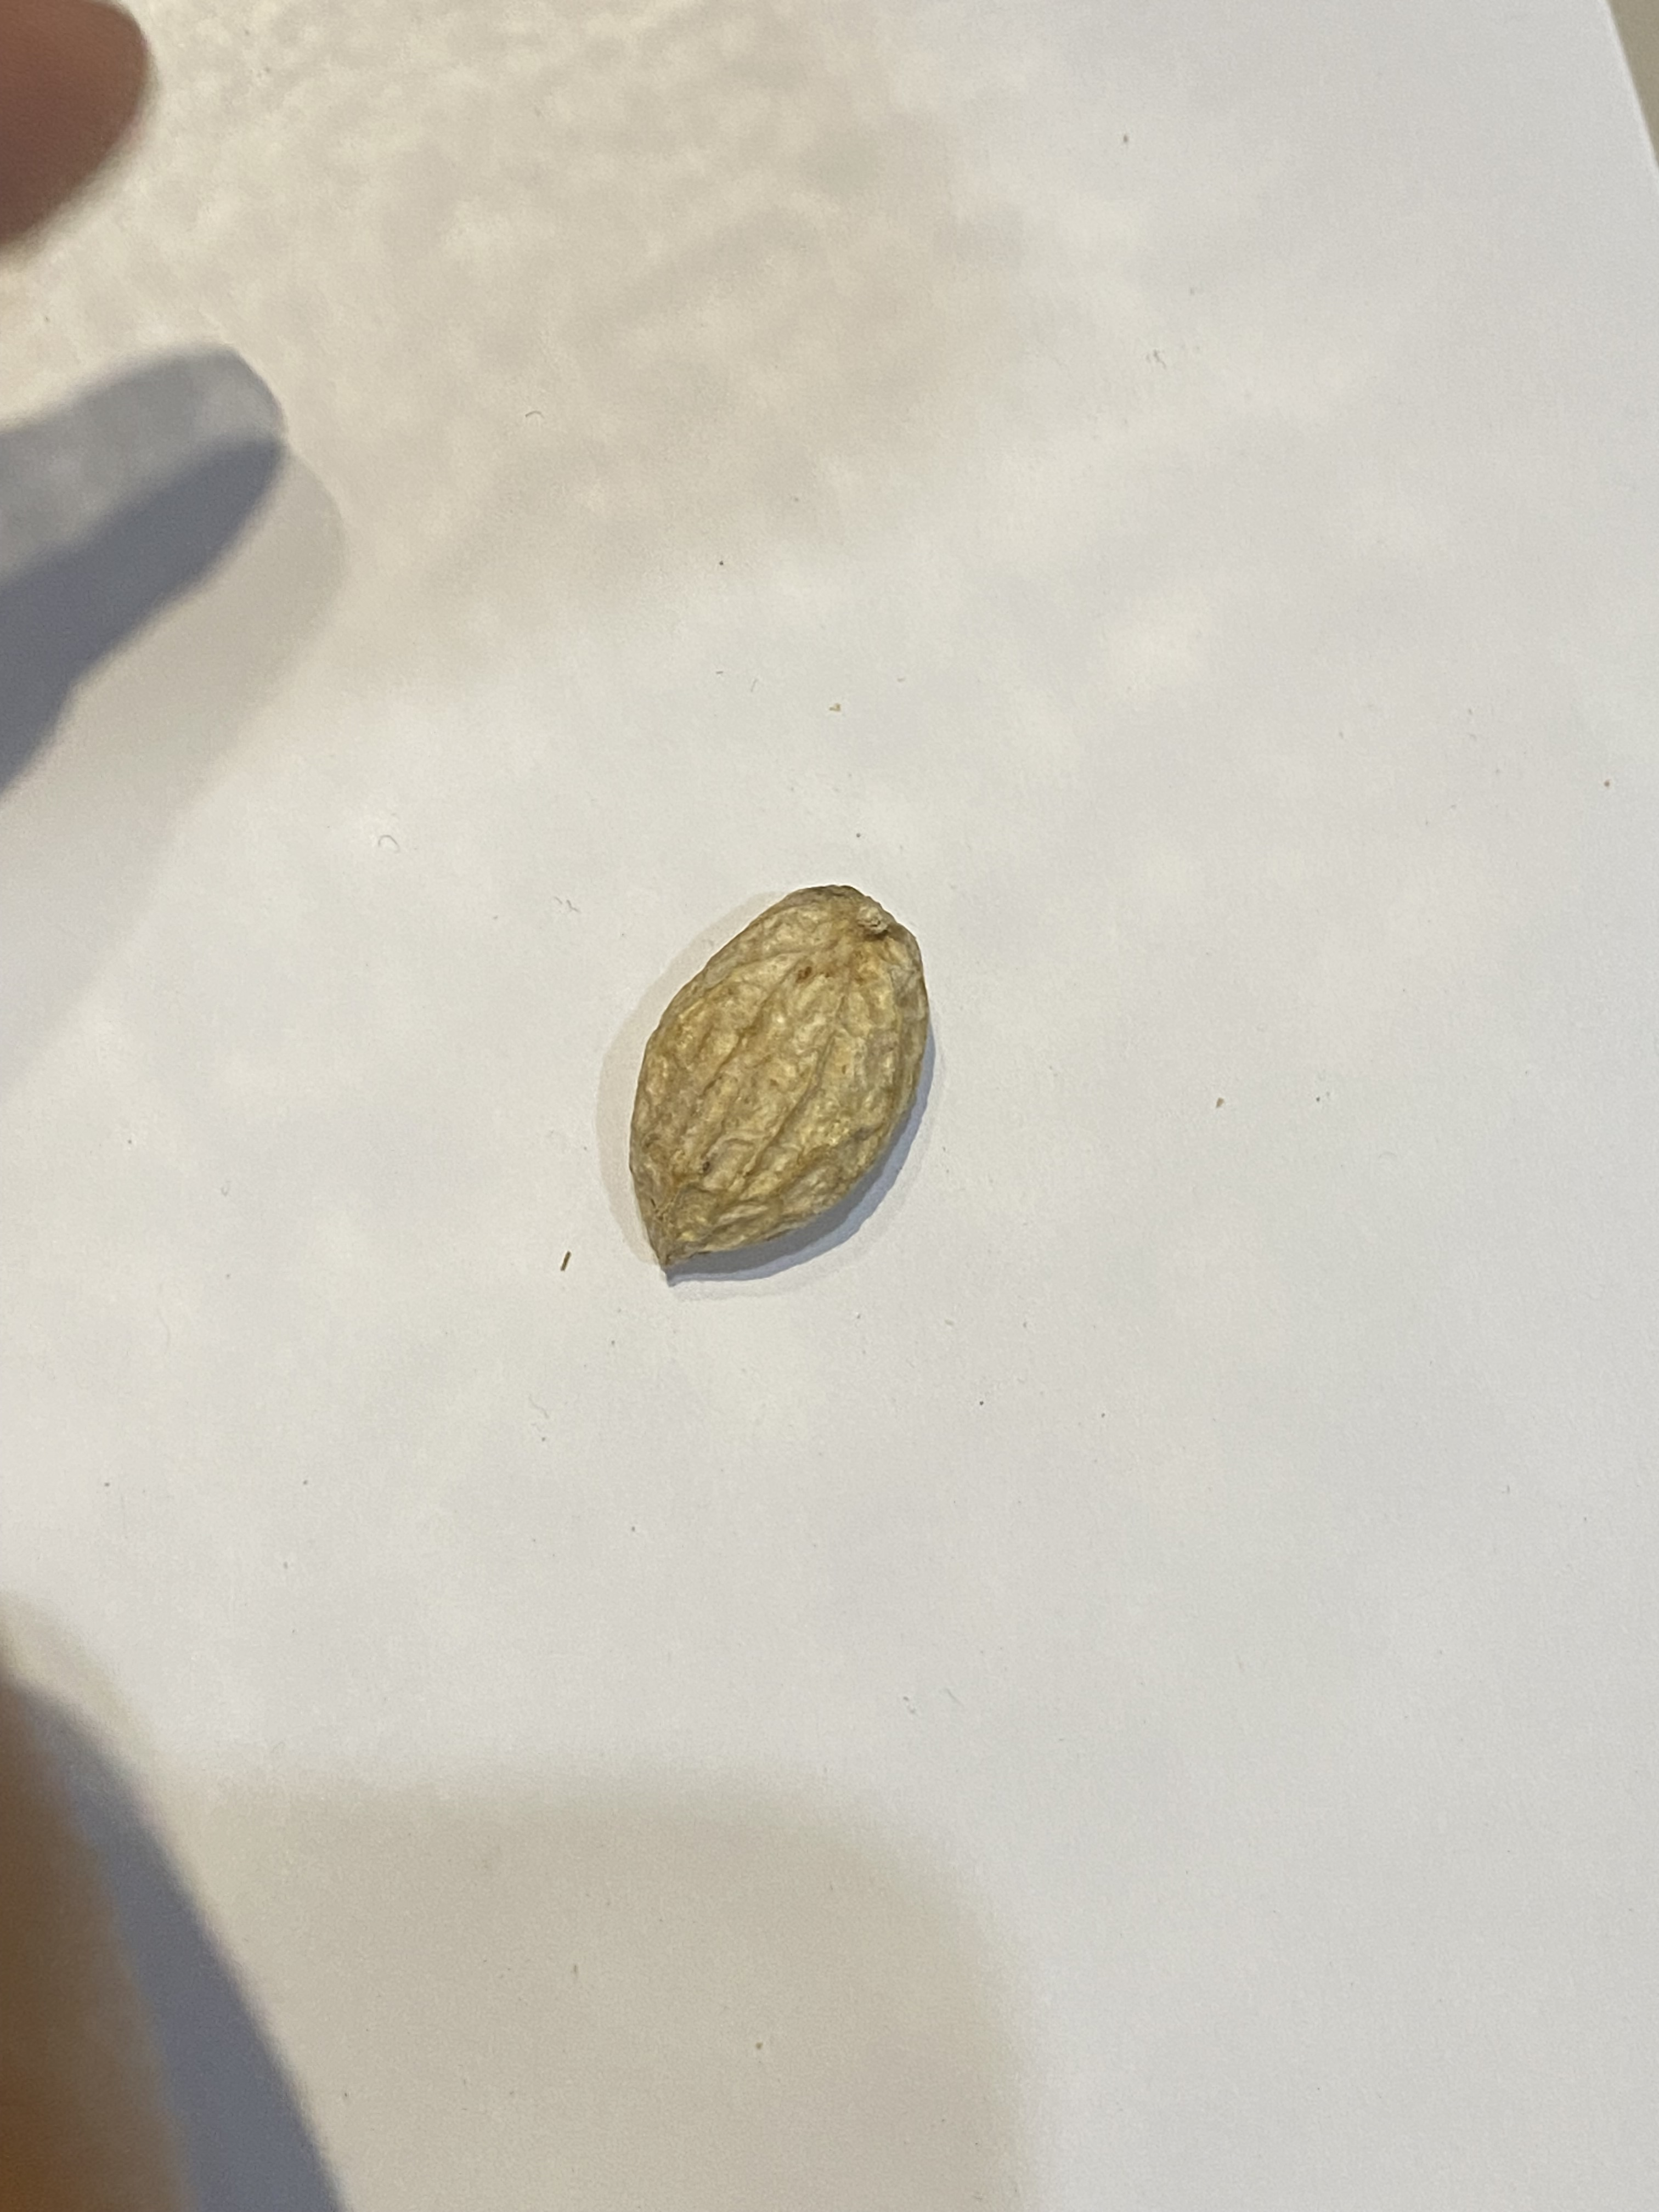kacang1: (570, 848, 974, 1287)
